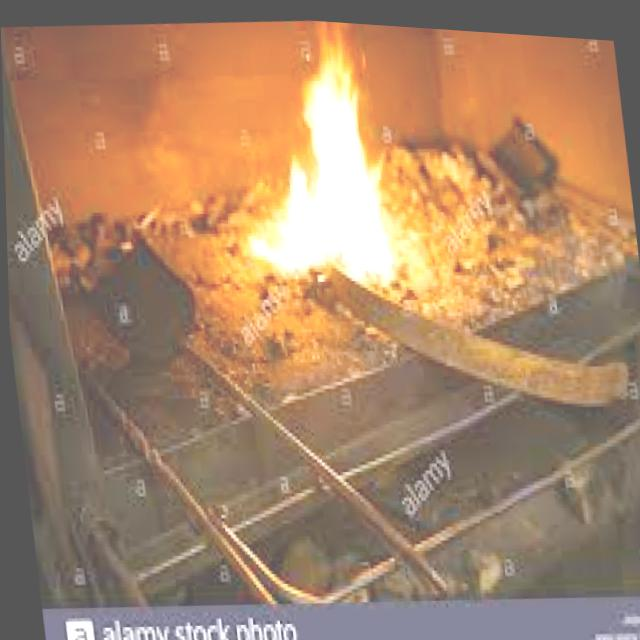Fire: (217, 11, 423, 314)
